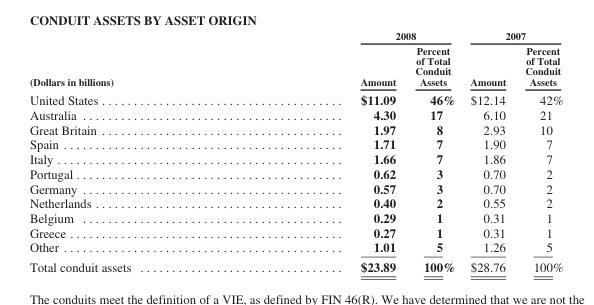table: (28, 29, 562, 273)
table column: (28, 29, 245, 273), (245, 29, 405, 273), (405, 29, 462, 273), (462, 29, 514, 273), (514, 29, 562, 273)
table column header: (28, 29, 562, 89)
table row: (28, 42, 562, 89), (28, 89, 562, 107), (28, 239, 562, 256), (28, 256, 562, 273), (28, 121, 562, 136), (28, 136, 562, 151), (28, 165, 562, 180), (28, 180, 562, 195), (28, 195, 562, 210), (28, 224, 562, 239), (28, 107, 562, 121), (28, 151, 562, 165), (28, 210, 562, 224), (28, 29, 562, 42)
table spanning cell: (28, 29, 245, 89), (245, 29, 462, 42), (462, 29, 562, 42)
